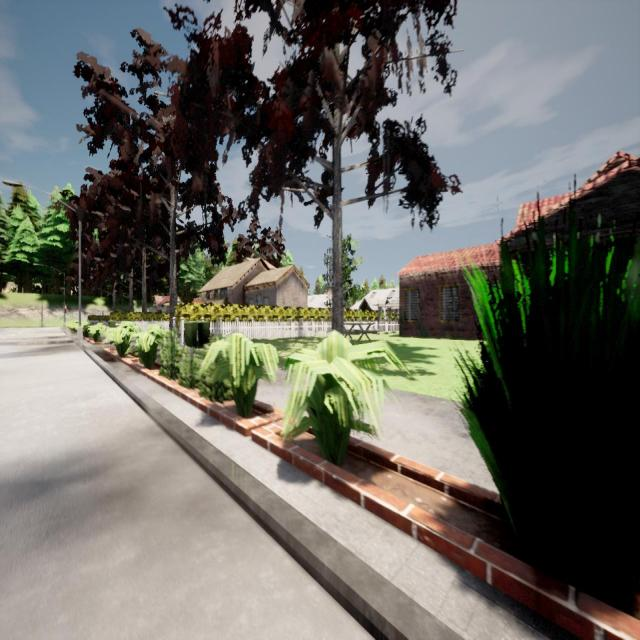traffic_light: (64, 305, 67, 313)
